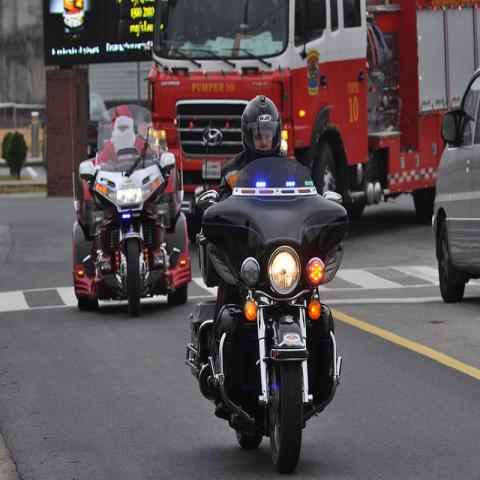car: (431, 67, 479, 305)
motorcycle: (188, 158, 350, 471), (71, 93, 195, 321)
truck: (138, 0, 479, 245)
